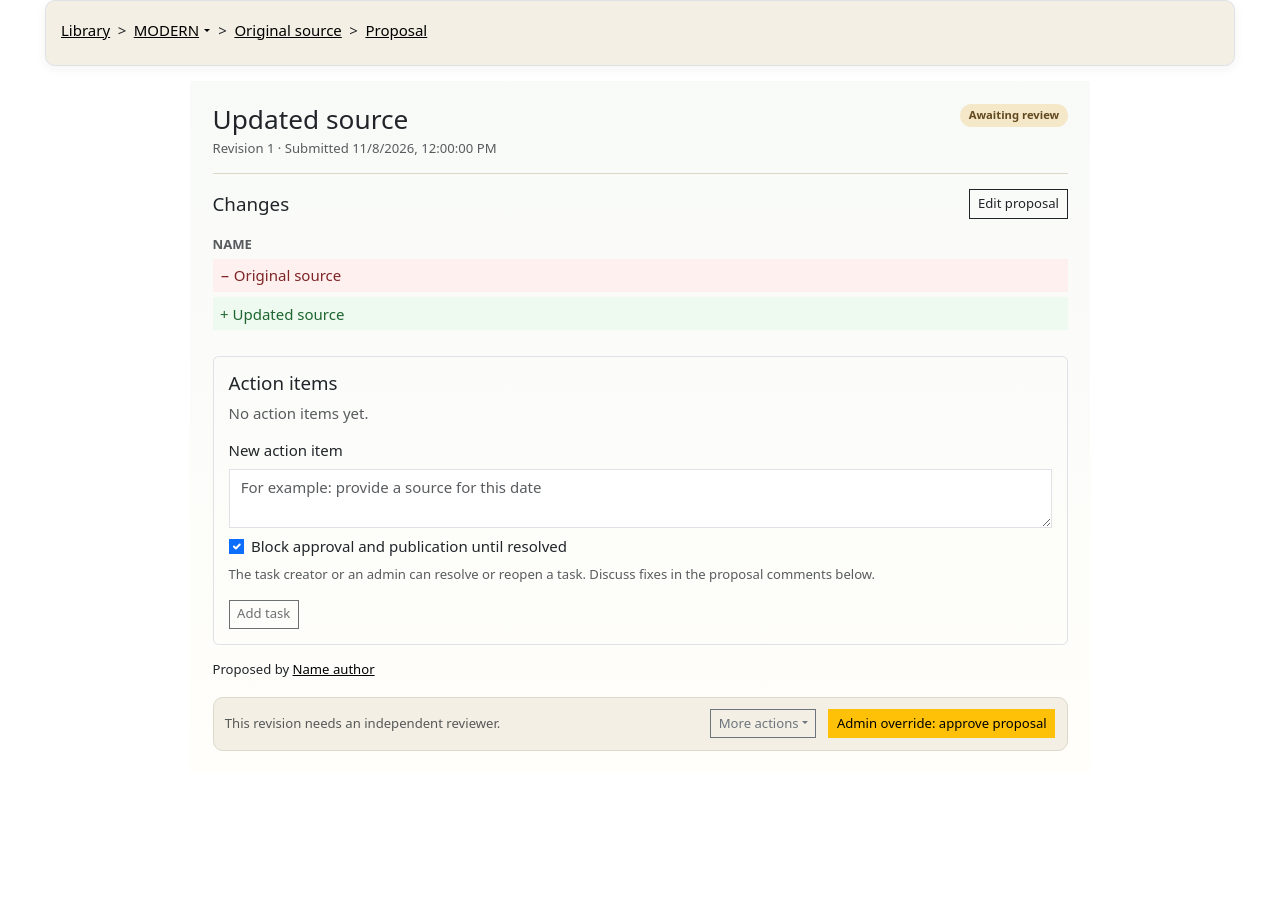
it: an admin author gets a yellow, reason-required proposal approval override without publishing
The width and height of the screenshot is (1280, 900).
Click the button "Admin override: approve proposal": (942, 724) [828,709,1055,738]
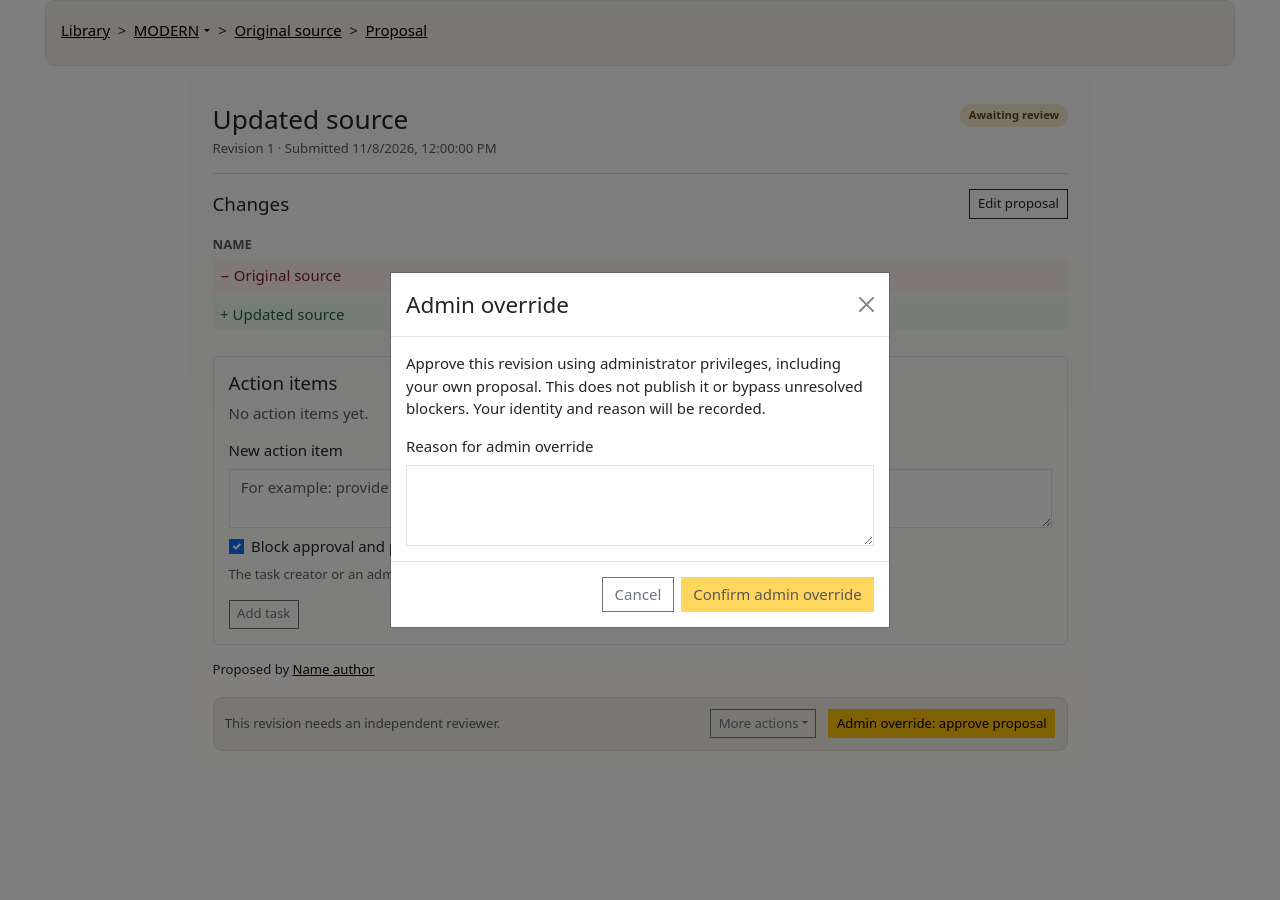
Expected: the button "Confirm admin override" is disabled, [681,577,874,612]
In the text box labelled "Reason for admin override": (640, 505) [406,465,874,546], type "Reviewed as administrator"
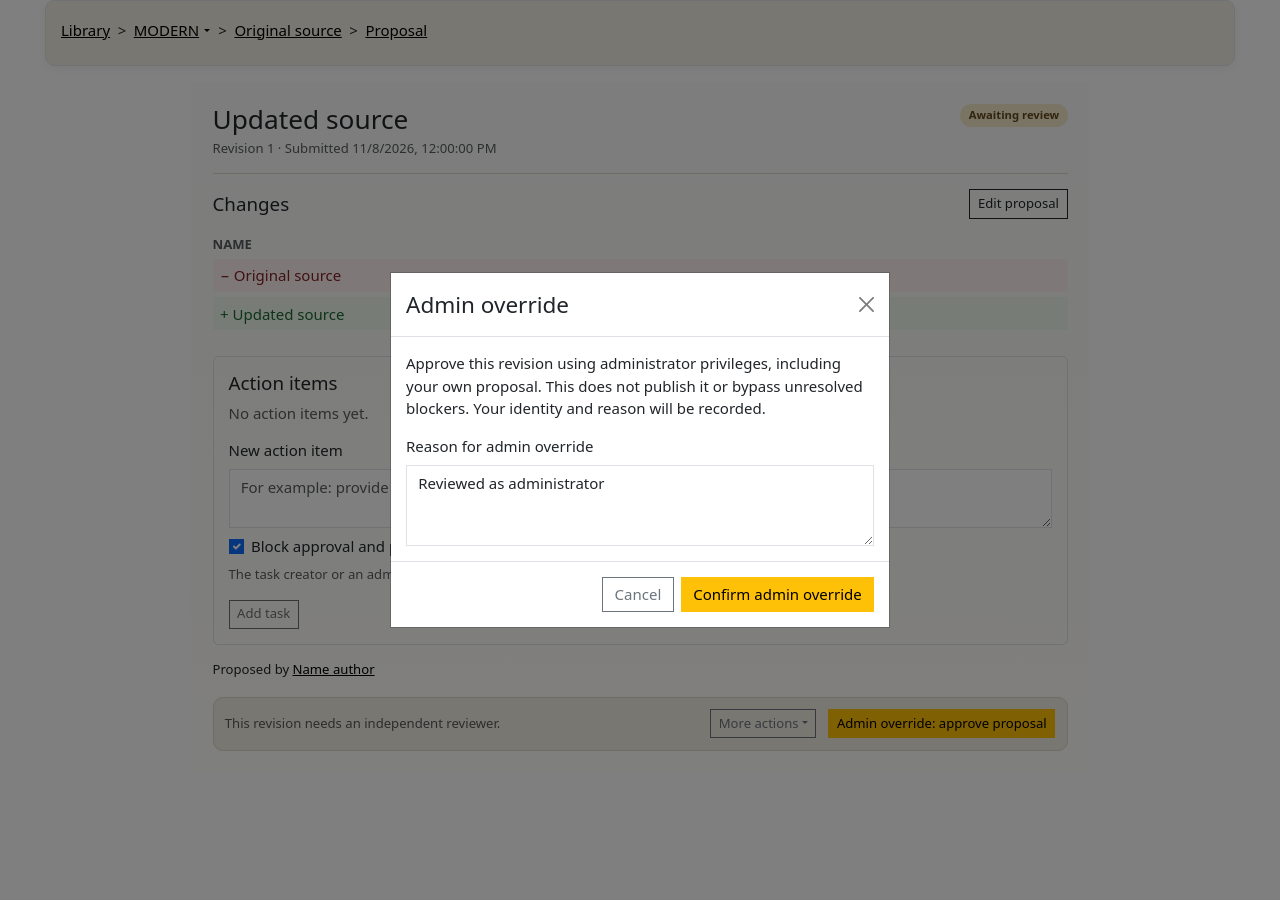
Click the button "Confirm admin override": (778, 594) [681,577,874,612]
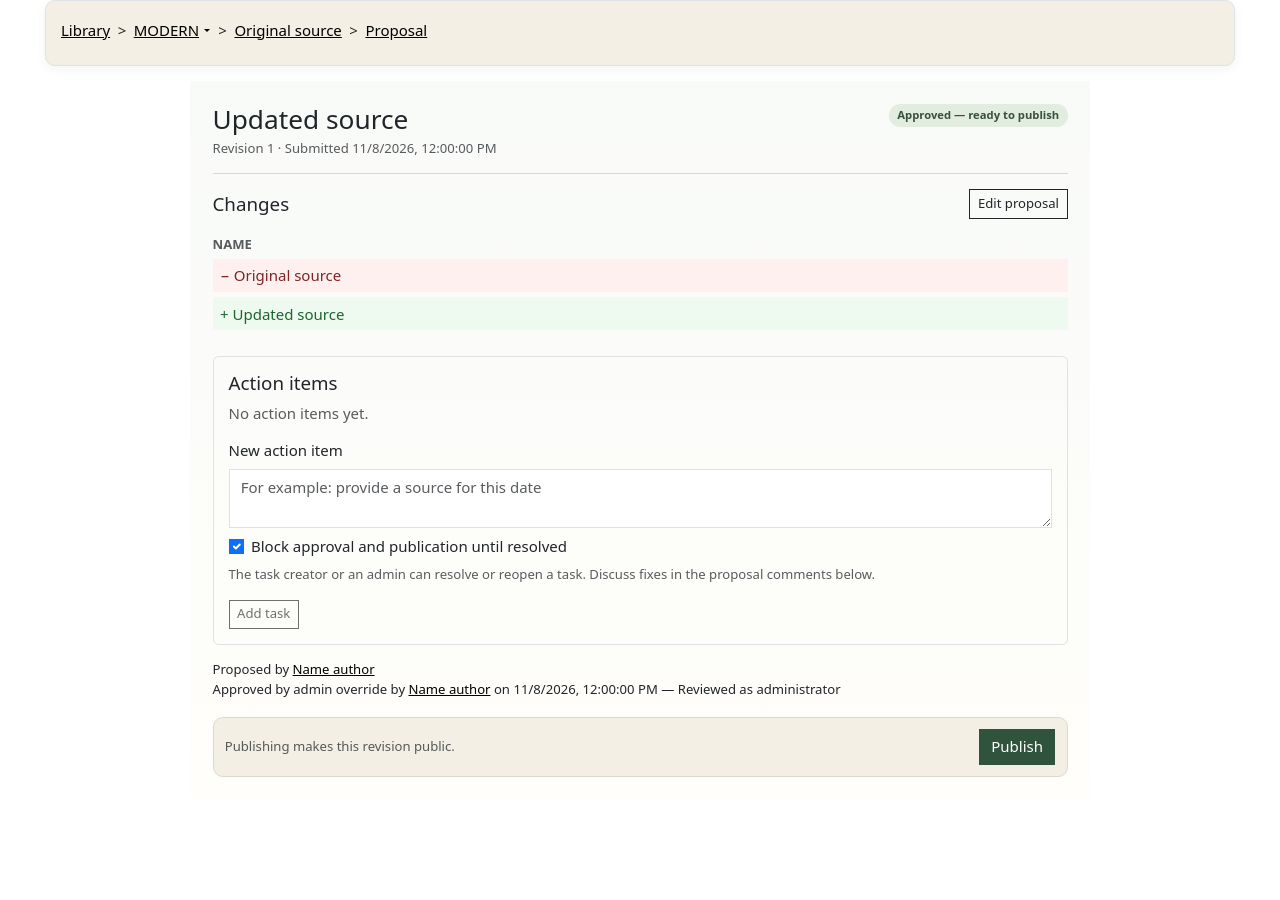
Expected: the button "Publish" is shown, [979,729,1055,765]
Expected: the text "Approved by admin override by" is shown, [212,680,408,698]
